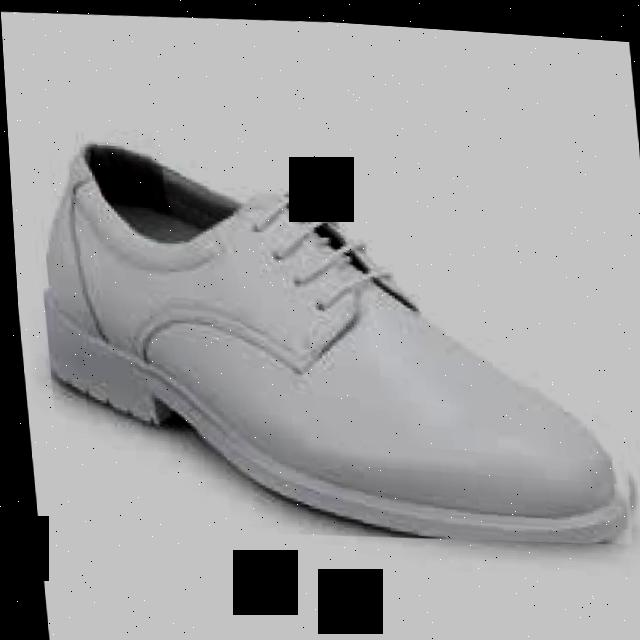shoe: (25, 113, 638, 556)
